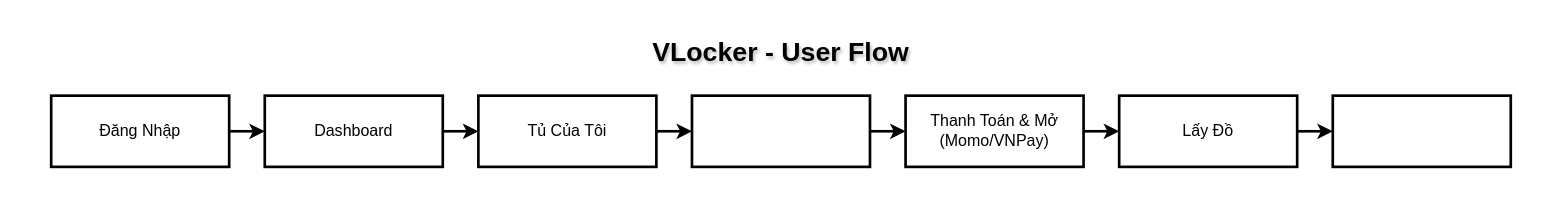
The diagram is 1561 pixels wide and 217 high, and some of its shapes have lost their labels. Here are the shapes that lost their labels. From the top down, the centre of each, then its label:
At point 780,131: "Xem Chi Tiết".
At point 1421,131: "Đóng Tủ".
